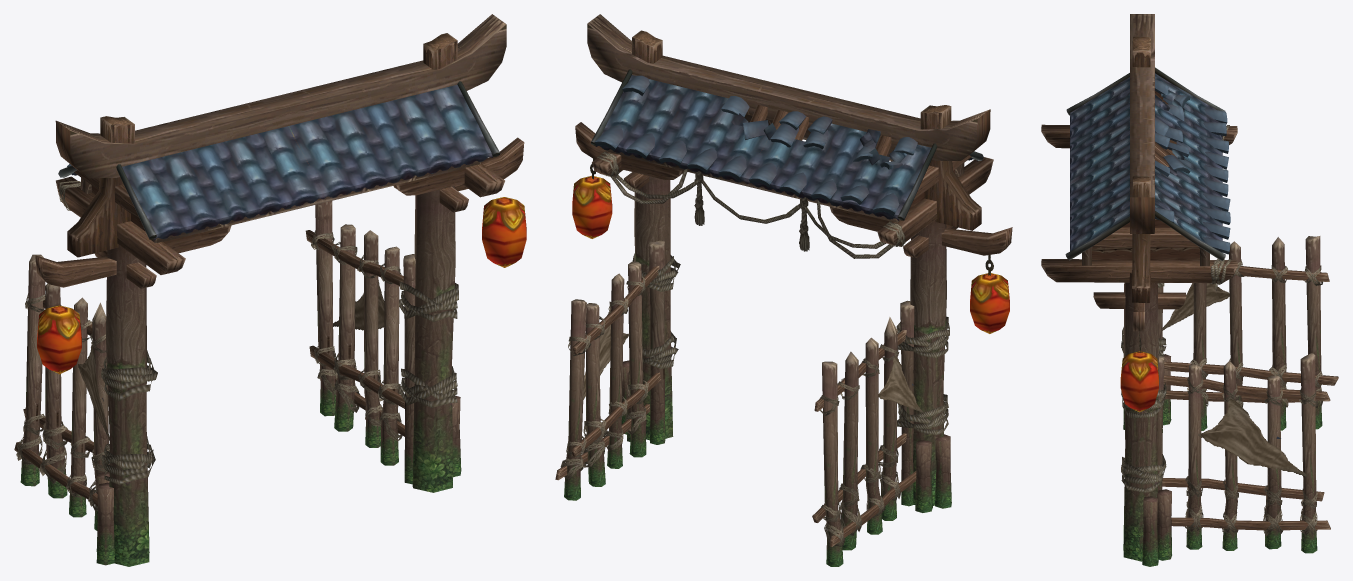
File: yingdimen.FBX
3 renders of one model, left to right at view 1: azimuth 30°, elevation 25°; view 2: azimuth 150°, elevation 25°; view 3: azimuth 270°, elevation 25°, orthographic. The views are drawn at different scales.
Visible parts, largest first — view 1: yingdimen; view 2: yingdimen; view 3: yingdimen.
Part boxes in pixels (x1=…): yingdimen: x1=14, y1=14, x2=526, y2=566; yingdimen: x1=555, y1=14, x2=1012, y2=566; yingdimen: x1=1041, y1=14, x2=1338, y2=566.
Bounding box in the file's own units: 6.63 × 5.8 × 4.06.
